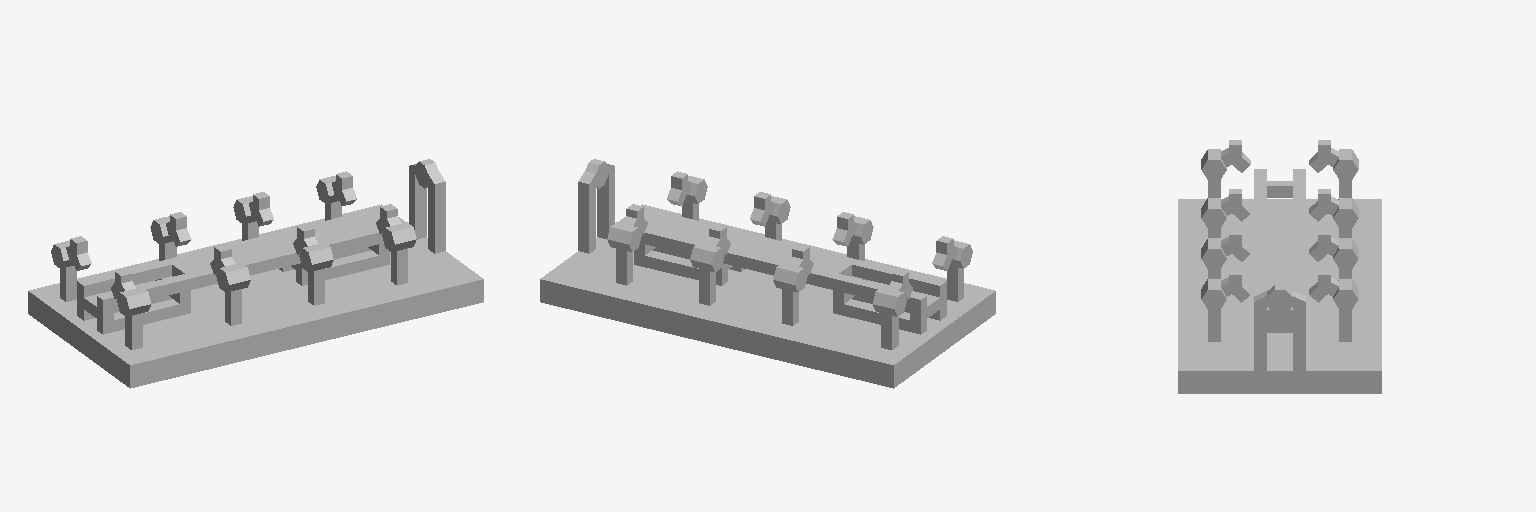
The model's file is workstation.missile.small.obj.
3 views of the same model, side by side, from view 1: azimuth 30°, elevation 25°; view 2: azimuth 150°, elevation 25°; view 3: azimuth 270°, elevation 25° (orthographic).
Parts seen in each view (by area): view 1: base, Group_002, Group_003, Group_013, Group_021, Group_017, Group_007, Group_004, Group_008, Group_025, Group_011, Group_012 (+6 smaller); view 2: base, Group_002, Group_011, Group_013, Group_021, Group_017, Group_007, Group_024, Group_008, Group_026, Group_003, Group_016 (+6 smaller); view 3: base, Group_002, Group_021, Group_017, Group_013, Group_007, Group_003, Group_011, Group_016, Group_010, Group_012, Group_020 (+2 smaller).
Part boxes in pixels (x1,y1,x2,y2): base: (28,204,483,388); Group_002: (77,211,383,310); Group_003: (428,171,445,253); Group_013: (150,216,250,292); Group_021: (316,176,416,251); Group_017: (233,196,333,271); Group_007: (51,240,150,316); Group_004: (296,251,389,285); Group_008: (60,266,142,349); Group_025: (97,300,190,334); Group_011: (409,164,426,238); Group_012: (170,212,231,274); base: (540,204,995,388); Group_002: (640,211,946,310); Group_011: (578,171,595,253); Group_013: (773,216,873,292); Group_021: (607,176,707,251); Group_017: (690,196,790,271); Group_007: (873,240,972,316); Group_024: (634,251,727,285); Group_008: (881,266,963,349); Group_026: (833,300,926,334); Group_003: (597,164,614,238); Group_016: (709,192,770,254); base: (1178,199,1381,393); Group_002: (1254,169,1305,320); Group_021: (1201,279,1358,309); Group_017: (1201,238,1358,268); Group_013: (1201,198,1358,228); Group_007: (1201,149,1358,179); Group_003: (1254,291,1266,370); Group_011: (1293,291,1305,370); Group_016: (1229,229,1330,261); Group_010: (1229,140,1330,172); Group_012: (1229,189,1330,221); Group_020: (1229,270,1330,302).
Bounding box in the file's own units: 2 × 0.5625 × 1.